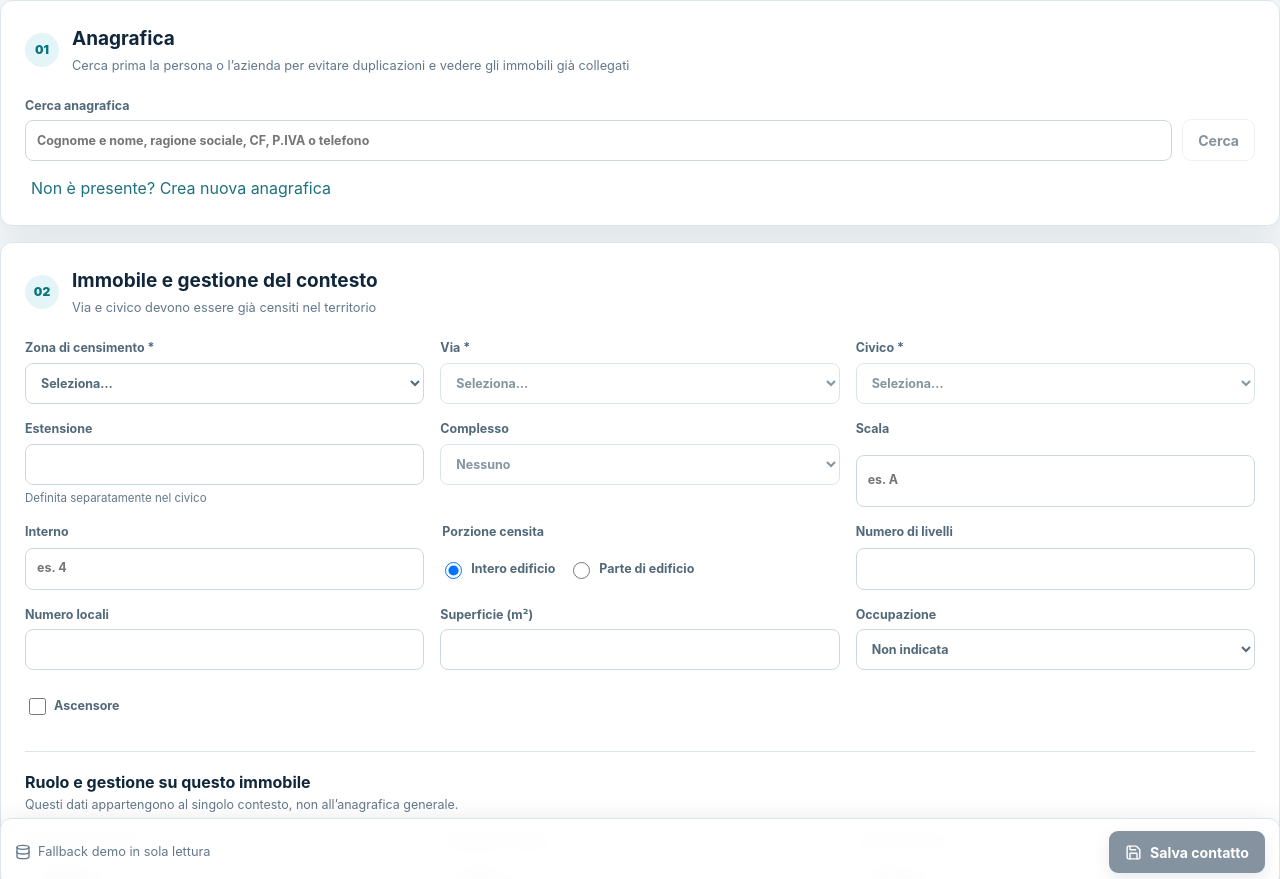
Test: contact form › shows structured floor controls only for a partial building
The width and height of the screenshot is (1280, 879).
Expected: the field labelled "Piano *" is not shown
Click the radio button labelled "Parte di edificio". click: (582,570)
box: [573,562,590,579]
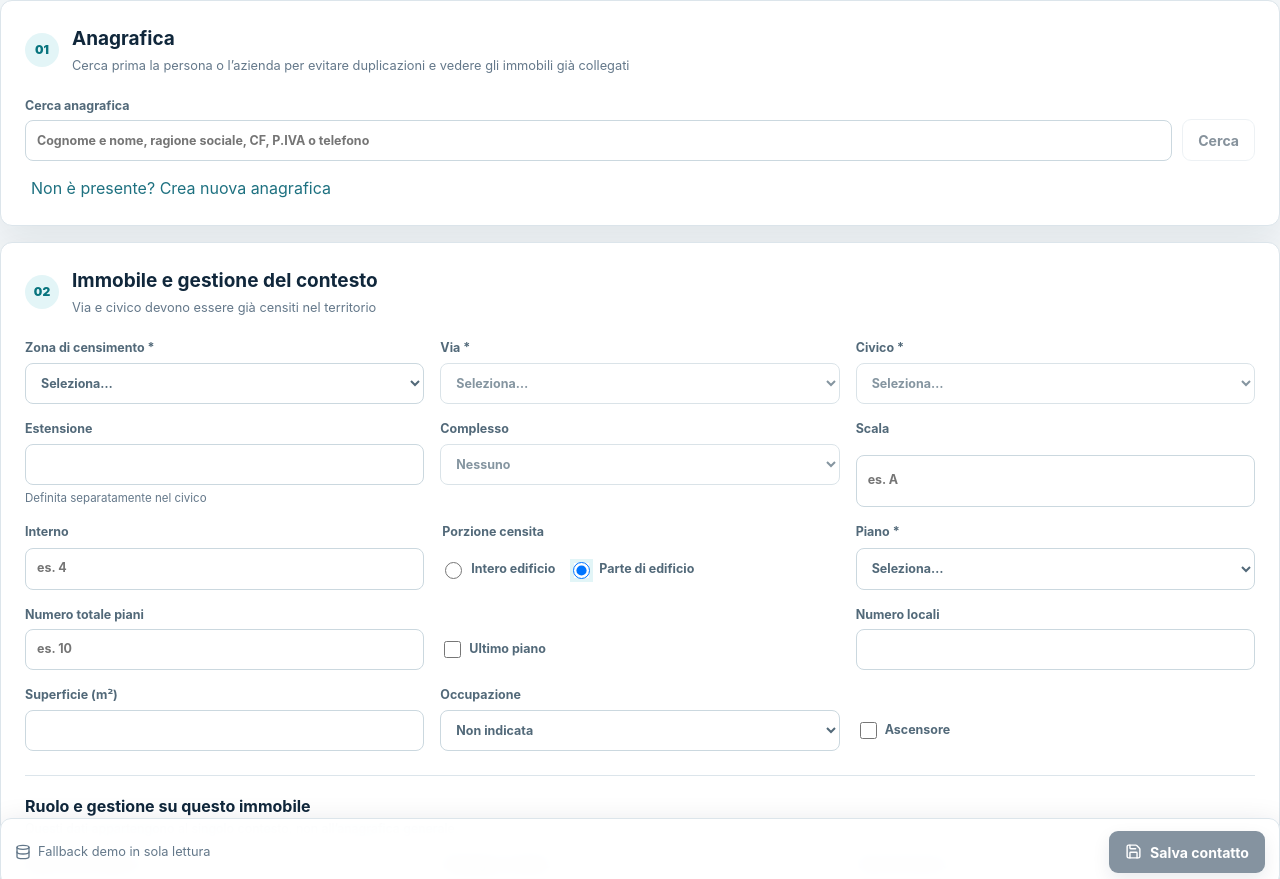
Result: the dropdown labelled "Piano *" is shown at [856,548,1255,590]
Result: the number field labelled "Numero totale piani" is shown at [25,629,424,670]
Result: the checkbox labelled "Ultimo piano" is shown at [444,641,461,658]
